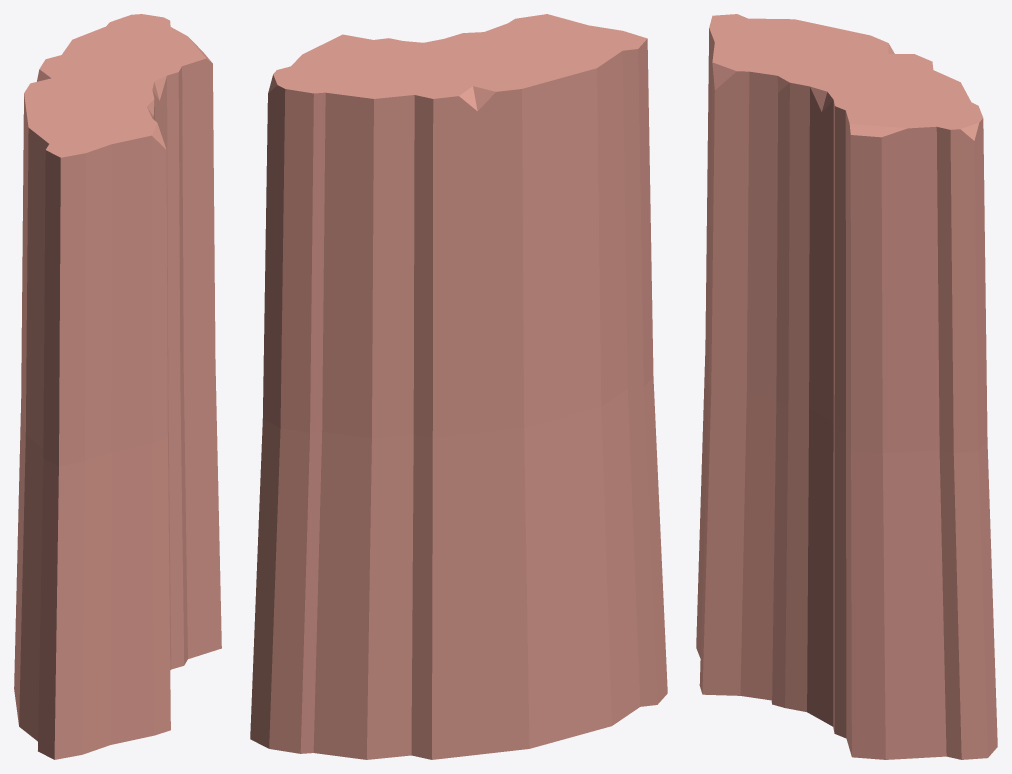
Rendered from SuperGrid_RingQuarter_021_Vlad.fbx.
The picture shows the model from 3 angles, left to right: view 1: azimuth 30°, elevation 25°; view 2: azimuth 150°, elevation 25°; view 3: azimuth 270°, elevation 25°; orthographic projection. The views are drawn at different scales.
Parts seen in each view (by area): view 1: SuperGrid_RingQuarter.021; view 2: SuperGrid_RingQuarter.021; view 3: SuperGrid_RingQuarter.021.
Part boxes in pixels (x1,y1,x2,y2): SuperGrid_RingQuarter.021: (14, 14, 221, 759); SuperGrid_RingQuarter.021: (250, 14, 667, 759); SuperGrid_RingQuarter.021: (696, 14, 997, 759).
Bounding box in the file's own units: 219 × 500 × 219.
